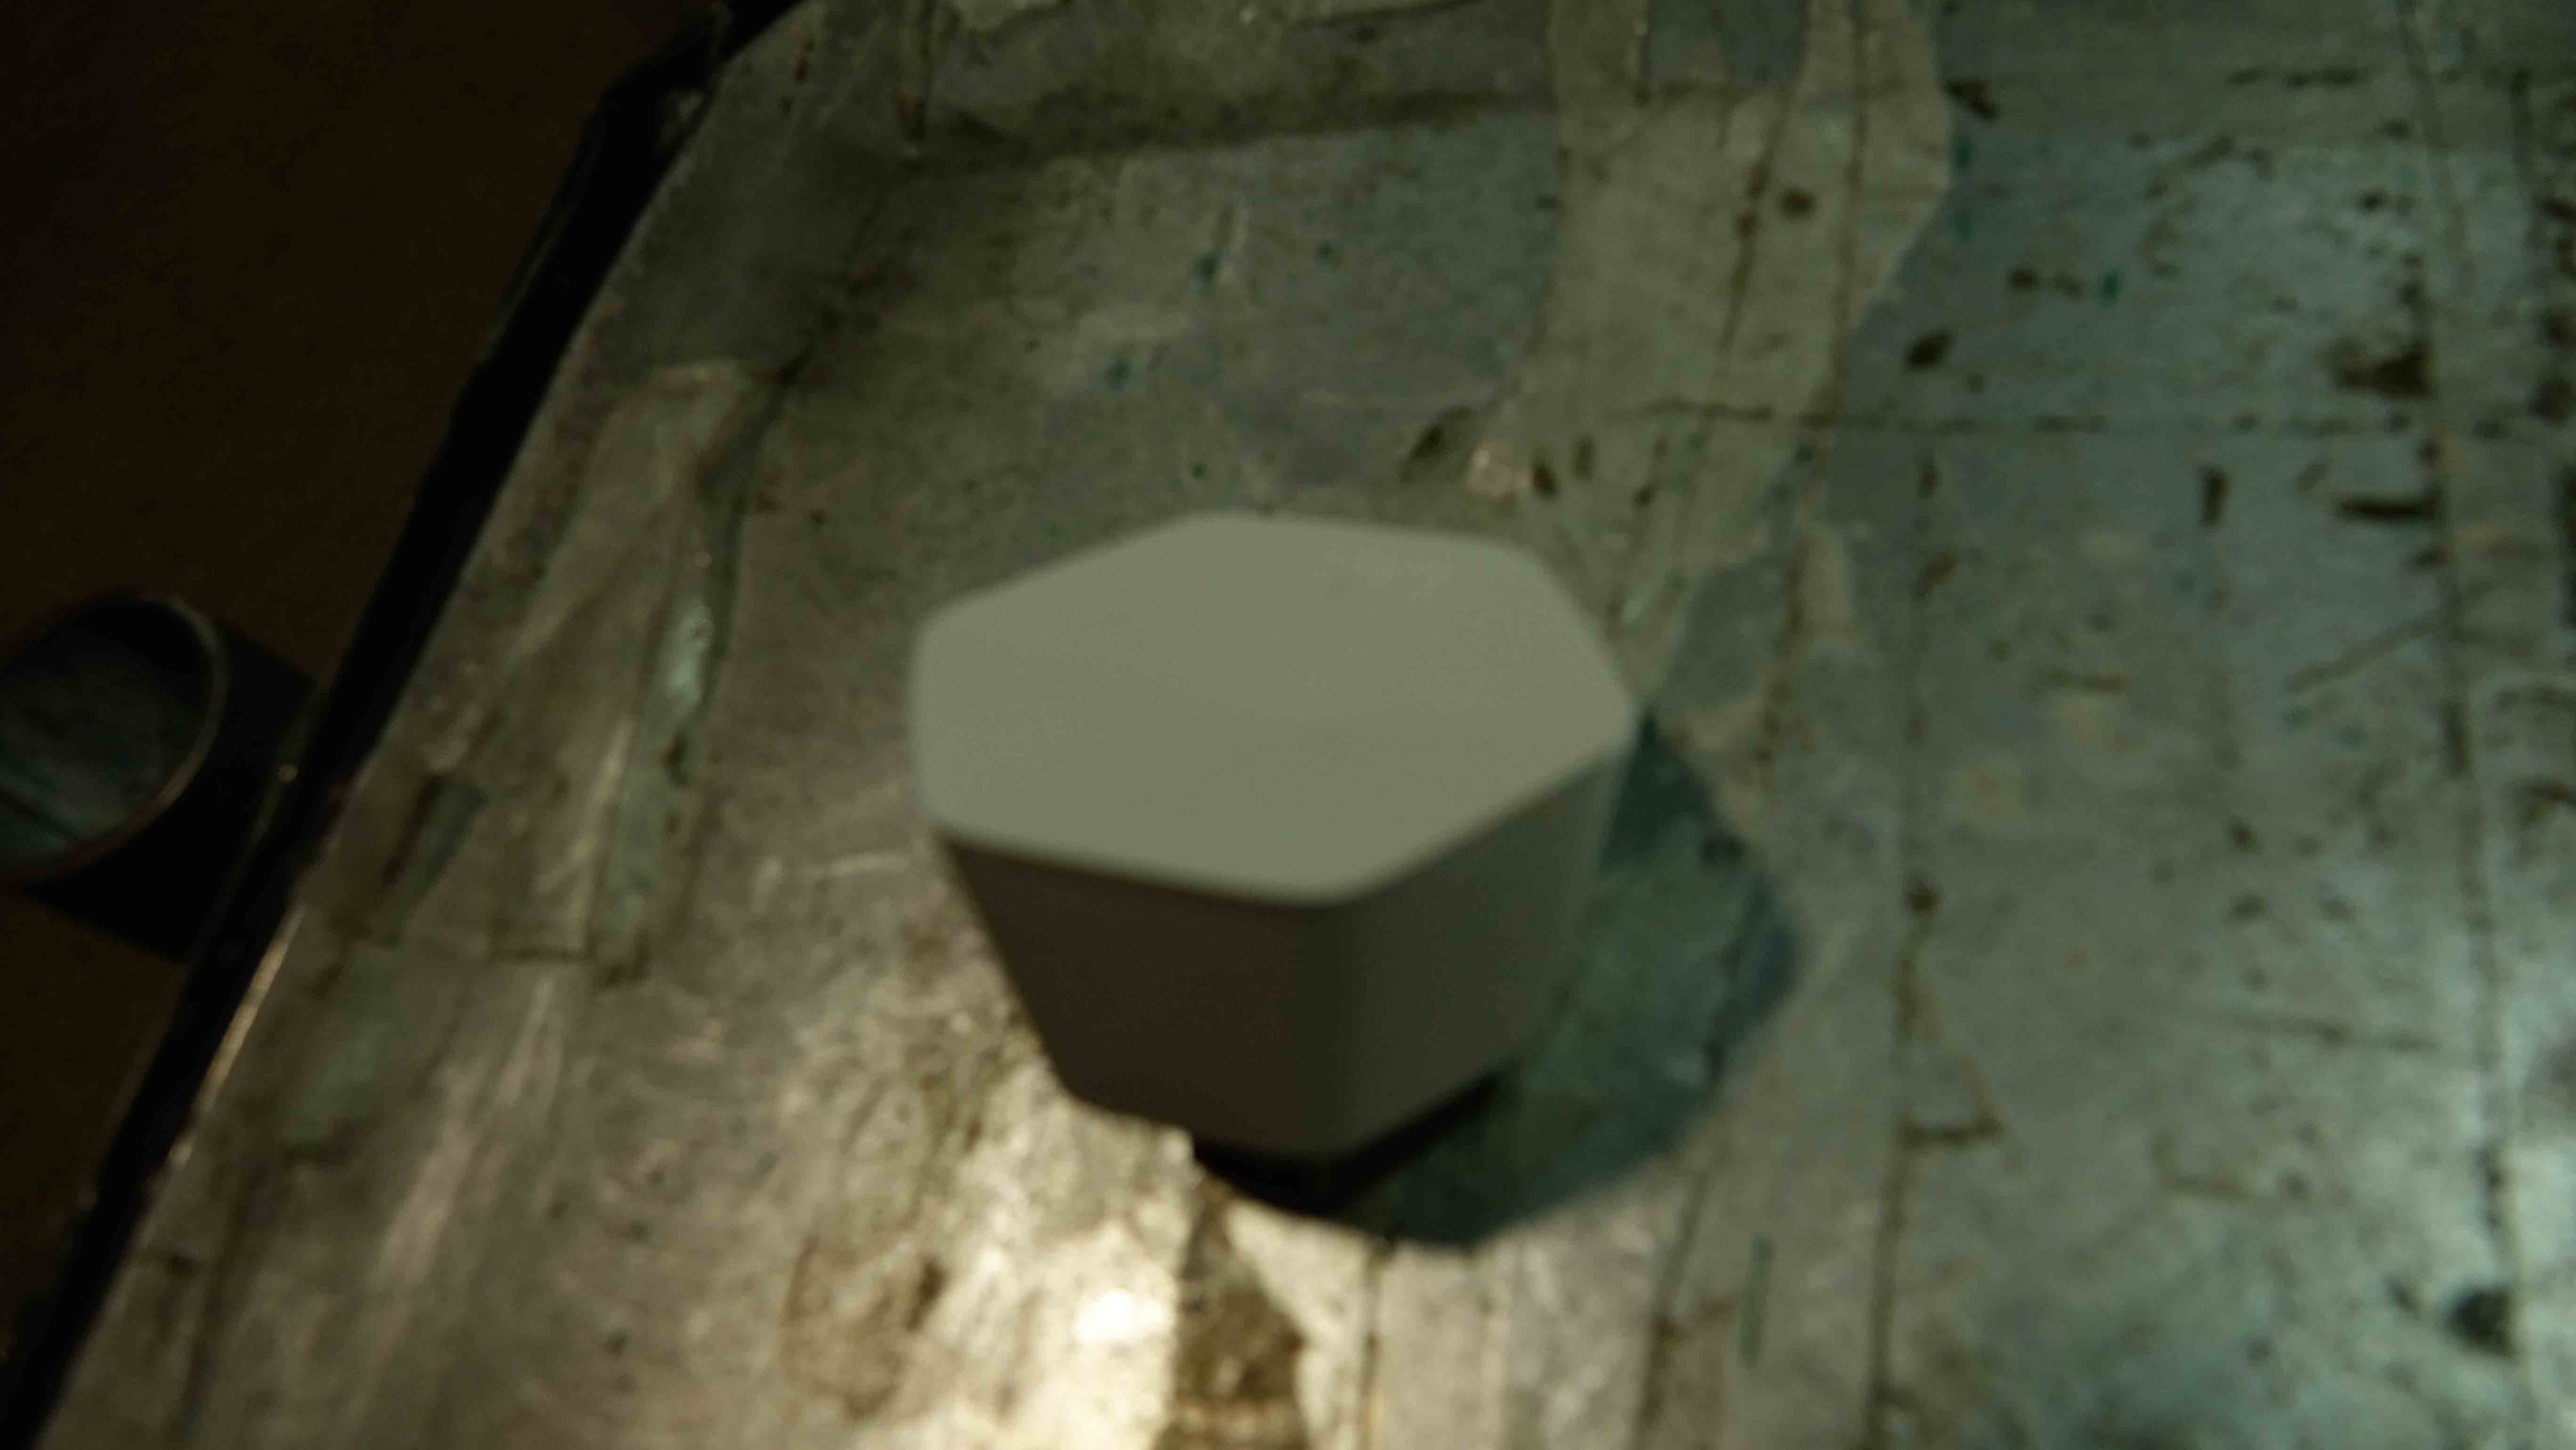pod: (904, 504, 1660, 1195)
